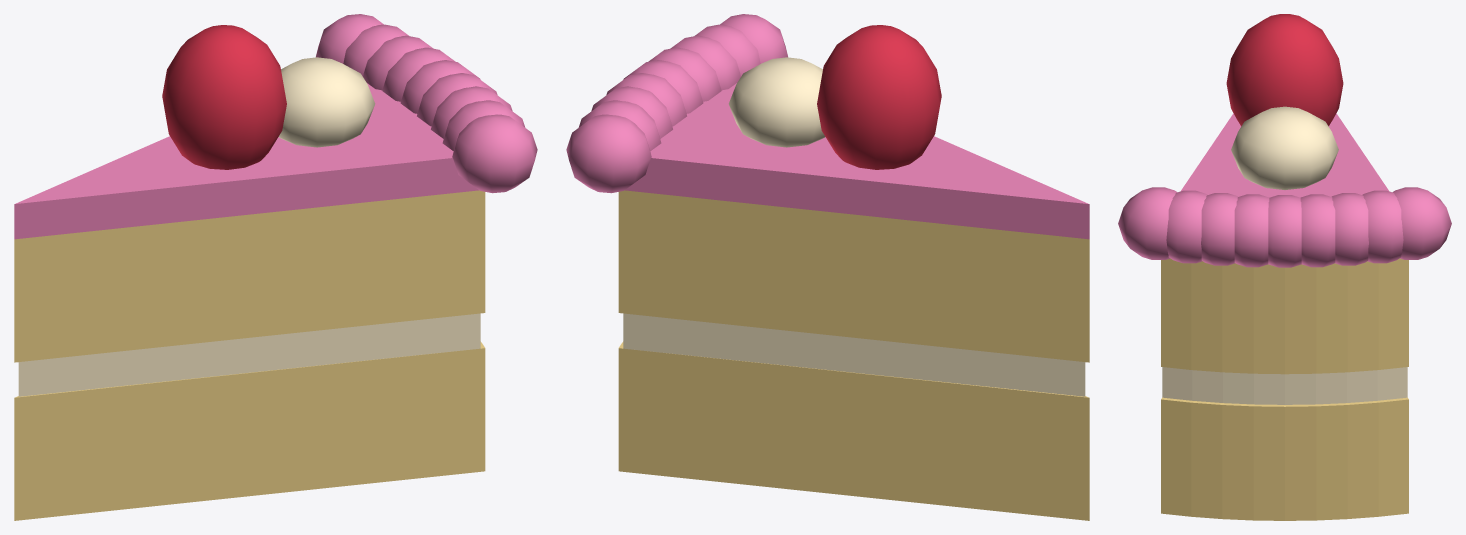
Rendered from strawberry-cake-slice.glb.
3 renders of one model, left to right at view 1: azimuth 30°, elevation 25°; view 2: azimuth 150°, elevation 25°; view 3: azimuth 270°, elevation 25°, orthographic. The views are drawn at different scales.
Parts seen in each view (by area): view 1: edible_sponge, edible_sponge.001, edible_frosting, edible_cream_layer, edible_strawberry, edible_cream_dollop, edible_frosting_puff, edible_frosting_puff.008, edible_frosting_puff.006, edible_frosting_puff.005, edible_frosting_puff.004, edible_frosting_puff.007 (+3 smaller); view 2: edible_sponge, edible_sponge.001, edible_frosting, edible_cream_layer, edible_strawberry, edible_cream_dollop, edible_frosting_puff.008, edible_frosting_puff, edible_frosting_puff.002, edible_frosting_puff.003, edible_frosting_puff.004, edible_frosting_puff.001 (+3 smaller); view 3: edible_sponge, edible_sponge.001, edible_strawberry, edible_cream_layer, edible_cream_dollop, edible_frosting, edible_frosting_puff, edible_frosting_puff.008, edible_frosting_puff.003, edible_frosting_puff.005, edible_frosting_puff.001, edible_frosting_puff.007 (+3 smaller).
Boxes of the visible parts, box(x1,y1,x2,y2) form: edible_sponge: box(14, 341, 485, 520); edible_sponge.001: box(14, 190, 485, 362); edible_frosting: box(14, 83, 478, 239); edible_cream_layer: box(18, 313, 480, 396); edible_strawberry: box(162, 25, 286, 169); edible_cream_dollop: box(278, 57, 375, 147); edible_frosting_puff: box(452, 114, 537, 193); edible_frosting_puff.008: box(316, 14, 383, 63); edible_frosting_puff.006: box(363, 35, 433, 90); edible_frosting_puff.005: box(382, 47, 455, 101); edible_frosting_puff.004: box(400, 60, 480, 113); edible_frosting_puff.007: box(343, 24, 408, 76); edible_sponge: box(618, 341, 1089, 520); edible_sponge.001: box(618, 190, 1089, 362); edible_frosting: box(625, 83, 1089, 239); edible_cream_layer: box(623, 313, 1085, 396); edible_strawberry: box(817, 25, 941, 169); edible_cream_dollop: box(728, 57, 825, 147); edible_frosting_puff.008: box(566, 114, 651, 193); edible_frosting_puff: box(720, 14, 787, 63); edible_frosting_puff.002: box(670, 35, 740, 90); edible_frosting_puff.003: box(648, 47, 721, 101); edible_frosting_puff.004: box(623, 60, 703, 113); edible_frosting_puff.001: box(695, 24, 760, 76); edible_sponge: box(1161, 397, 1408, 520); edible_sponge.001: box(1161, 258, 1408, 374); edible_strawberry: box(1226, 14, 1343, 126); edible_cream_layer: box(1162, 367, 1407, 404); edible_cream_dollop: box(1231, 106, 1338, 189); edible_frosting: box(1180, 113, 1389, 197); edible_frosting_puff: box(1118, 187, 1177, 259); edible_frosting_puff.008: box(1392, 187, 1451, 259); edible_frosting_puff.003: box(1234, 194, 1269, 267); edible_frosting_puff.005: box(1300, 194, 1335, 267); edible_frosting_puff.001: box(1166, 190, 1207, 263); edible_frosting_puff.007: box(1362, 190, 1403, 263).
Size of the model in its own units: 0.1106 by 0.1 by 0.0742.
